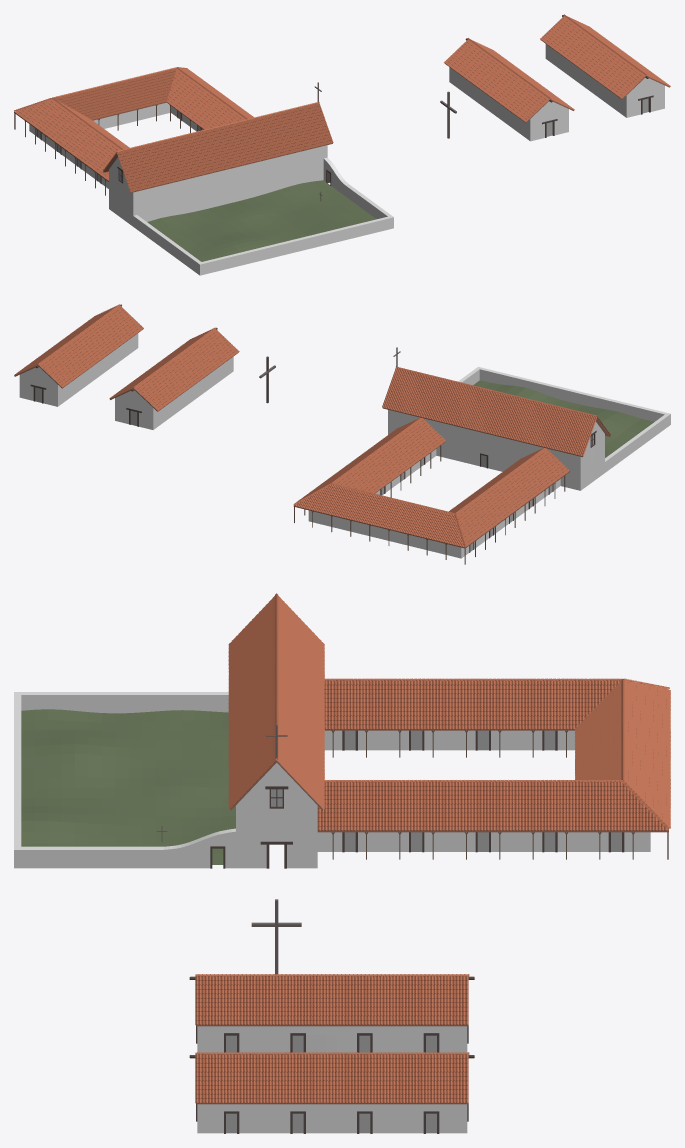
Rendered from third mission small roof.fbx.
3 renders of one model, top to bottom at view 1: azimuth 30°, elevation 25°; view 2: azimuth 150°, elevation 25°; view 3: azimuth 270°, elevation 25°, orthographic. The views are drawn at different scales.
Visible parts, largest first — view 1: Plane.003, 1roof.005, Cube.031, 1roof.007, 1roof.008, 1roof.006, 1roof.004, 1roof.003, Cube.042, Cube.038, Cube.035, Cube.034 (+7 smaller); view 2: 1roof.005, 1roof.004, 1roof.006, 1roof.003, Cube.030, 1roof.008, 1roof.007, Plane.003, Cube.042, Cube.029, Cube.035, Cube.038 (+7 smaller); view 3: Plane.003, 1roof.003, 1roof.005, 1roof.006, 1roof.008, 1roof.007, 1roof.004, Cube.015 (001).006, Cube.015 (001).009, Cube.041, Cube.015 (001).008, Cube.032 (+4 smaller).
Boxes of the visible parts, left/top/right/bottom form: Plane.003: left=147, top=180, right=375, bottom=261; 1roof.005: left=103, top=102, right=333, bottom=192; Cube.031: left=134, top=145, right=326, bottom=221; 1roof.007: left=444, top=38, right=574, bottom=122; 1roof.008: left=540, top=14, right=670, bottom=98; 1roof.006: left=15, top=97, right=129, bottom=180; 1roof.004: left=53, top=67, right=176, bottom=119; 1roof.003: left=166, top=67, right=254, bottom=129; Cube.042: left=202, top=216, right=390, bottom=274; Cube.038: left=450, top=68, right=529, bottom=140; Cube.035: left=546, top=44, right=625, bottom=117; Cube.034: left=109, top=157, right=134, bottom=226; 1roof.005: left=382, top=366, right=611, bottom=456; 1roof.004: left=295, top=483, right=463, bottom=547; 1roof.006: left=449, top=448, right=569, bottom=546; 1roof.003: left=294, top=417, right=446, bottom=503; Cube.030: left=388, top=410, right=579, bottom=490; 1roof.008: left=14, top=304, right=143, bottom=387; 1roof.007: left=109, top=327, right=239, bottom=410; Plane.003: left=473, top=380, right=654, bottom=457; Cube.042: left=479, top=367, right=666, bottom=421; Cube.029: left=309, top=510, right=460, bottom=558; Cube.035: left=58, top=334, right=137, bottom=406; Cube.038: left=154, top=357, right=233, bottom=429; Plane.003: left=21, top=709, right=235, bottom=864; 1roof.003: left=317, top=780, right=667, bottom=830; 1roof.005: left=228, top=593, right=324, bottom=809; 1roof.006: left=324, top=678, right=644, bottom=729; 1roof.008: left=195, top=1052, right=469, bottom=1103; 1roof.007: left=195, top=974, right=469, bottom=1025; 1roof.004: left=575, top=679, right=670, bottom=828; Cube.015 (001).006: left=199, top=1104, right=465, bottom=1133; Cube.015 (001).009: left=199, top=1026, right=465, bottom=1052; Cube.041: left=236, top=763, right=317, bottom=868; Cube.015 (001).008: left=317, top=832, right=650, bottom=852; Cube.032: left=14, top=828, right=235, bottom=868.
Size of the model in its own units: 27601 by 4345 by 17750.
